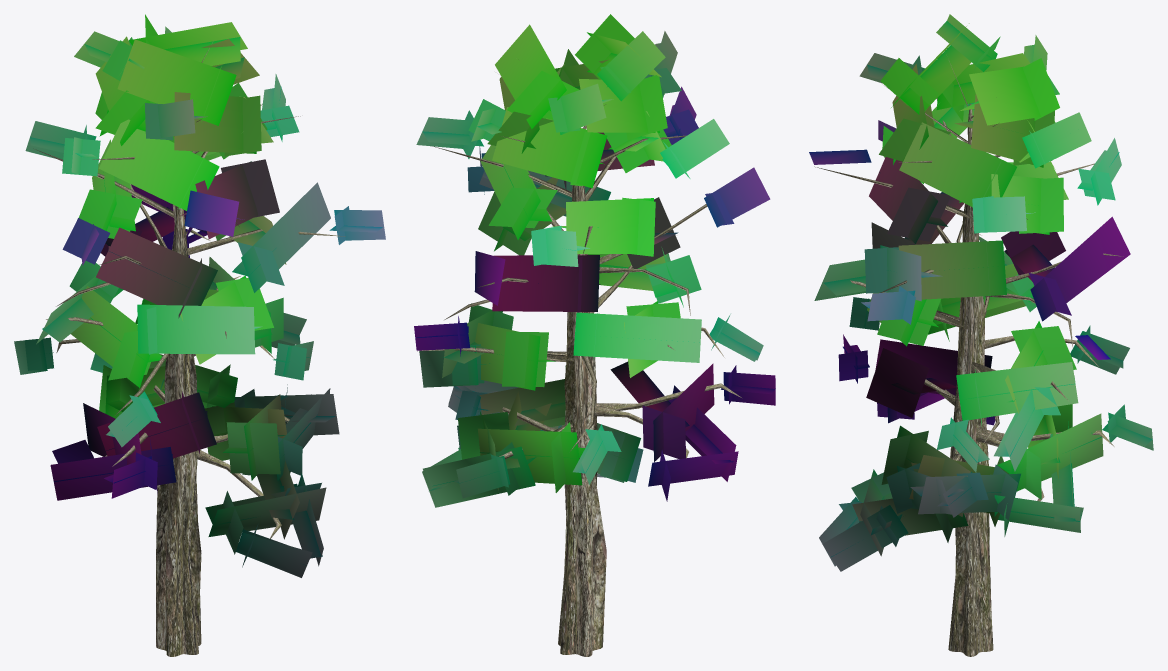
The model's file is arvore_folha_verdinho_4.fbx.
The picture shows the model from 3 angles, left to right: view 1: azimuth 30°, elevation 25°; view 2: azimuth 150°, elevation 25°; view 3: azimuth 270°, elevation 25°; orthographic projection. The views are drawn at different scales.
Visible parts, largest first — view 1: branch08_1, mossybark03_0; view 2: branch08_1, mossybark03_0; view 3: branch08_1, mossybark03_0.
Boxes of the visible parts, <box> form: branch08_1: <box>14,14,385,577</box>; mossybark03_0: <box>33,41,345,656</box>; branch08_1: <box>414,14,775,507</box>; mossybark03_0: <box>417,75,741,656</box>; branch08_1: <box>809,14,1153,571</box>; mossybark03_0: <box>814,61,1123,656</box>.
Size of the model in its own units: 389 by 782 by 407.
